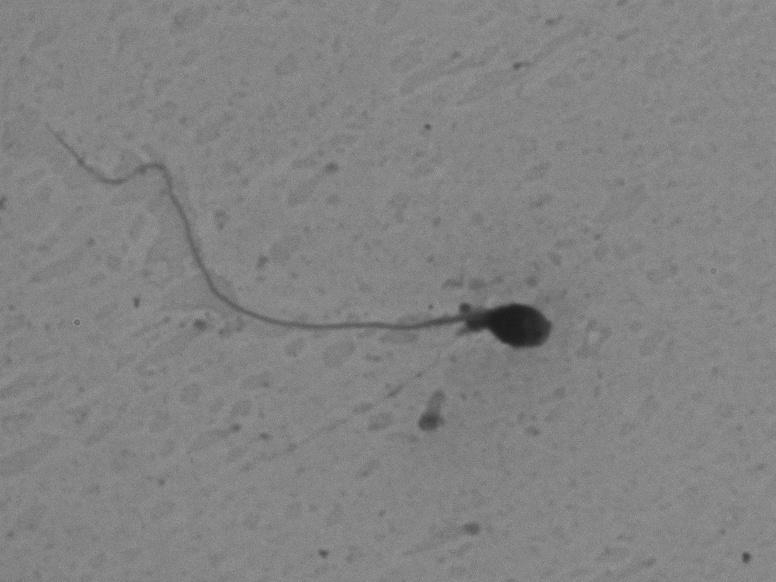Abnormal: (29, 98, 617, 391)
